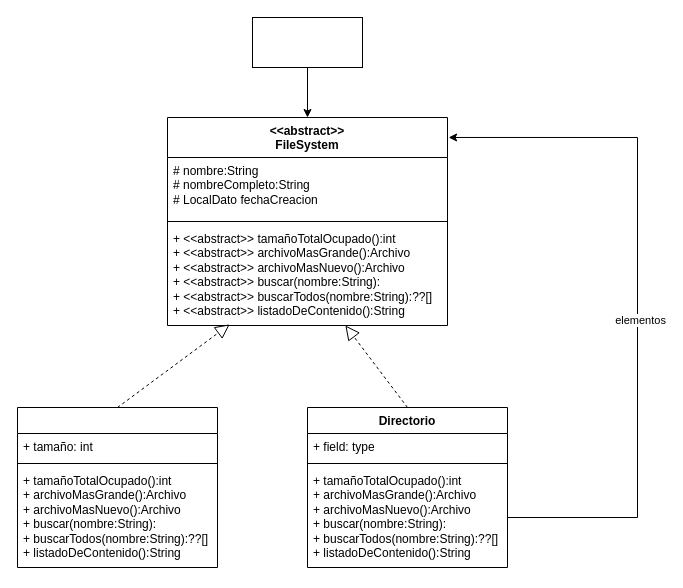
Image size: 683x588. Some labels were removed from this diagram. The box of each missing label's shape, as (x1, y1, x2, y2) in pixels:
Archivo (Leaf): (16, 406, 218, 568)
Cliente: (252, 16, 362, 68)
